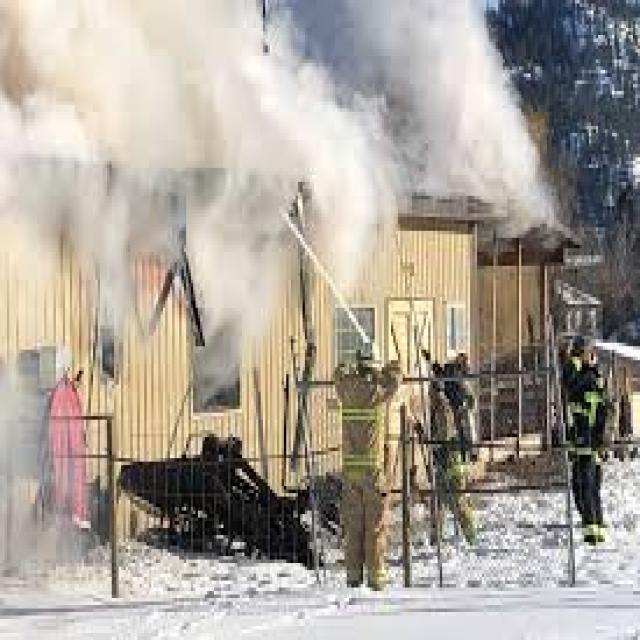smoke: (2, 0, 545, 248), (86, 253, 275, 370), (0, 359, 56, 586)
